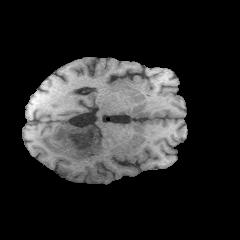glioma: (38, 126, 102, 162)
